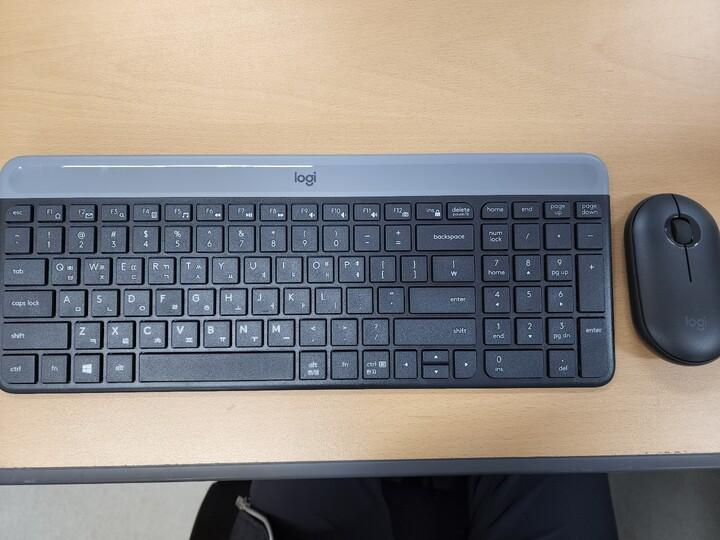keyboard: (0, 153, 615, 393)
mouse: (623, 192, 719, 366)
